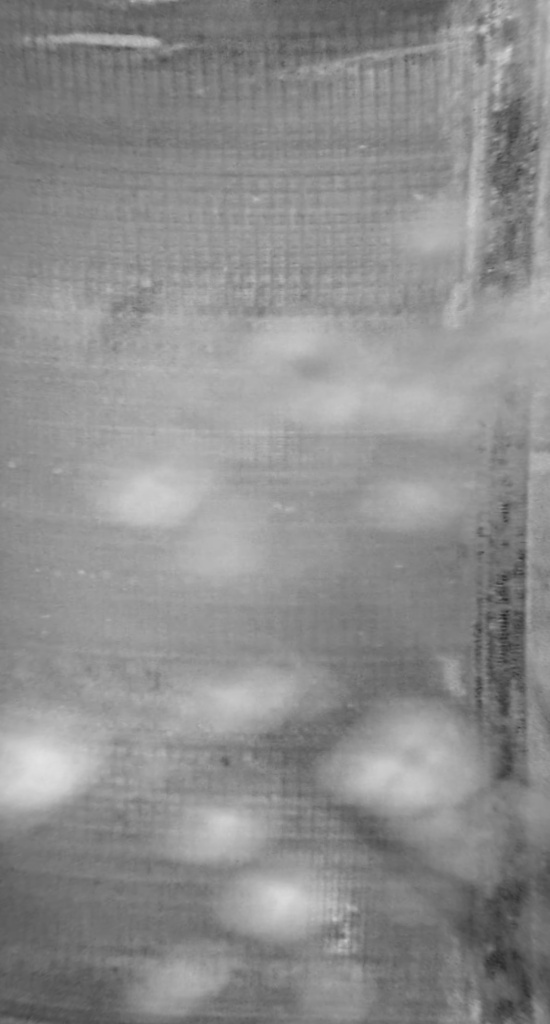splice: (451, 3, 548, 1022)
